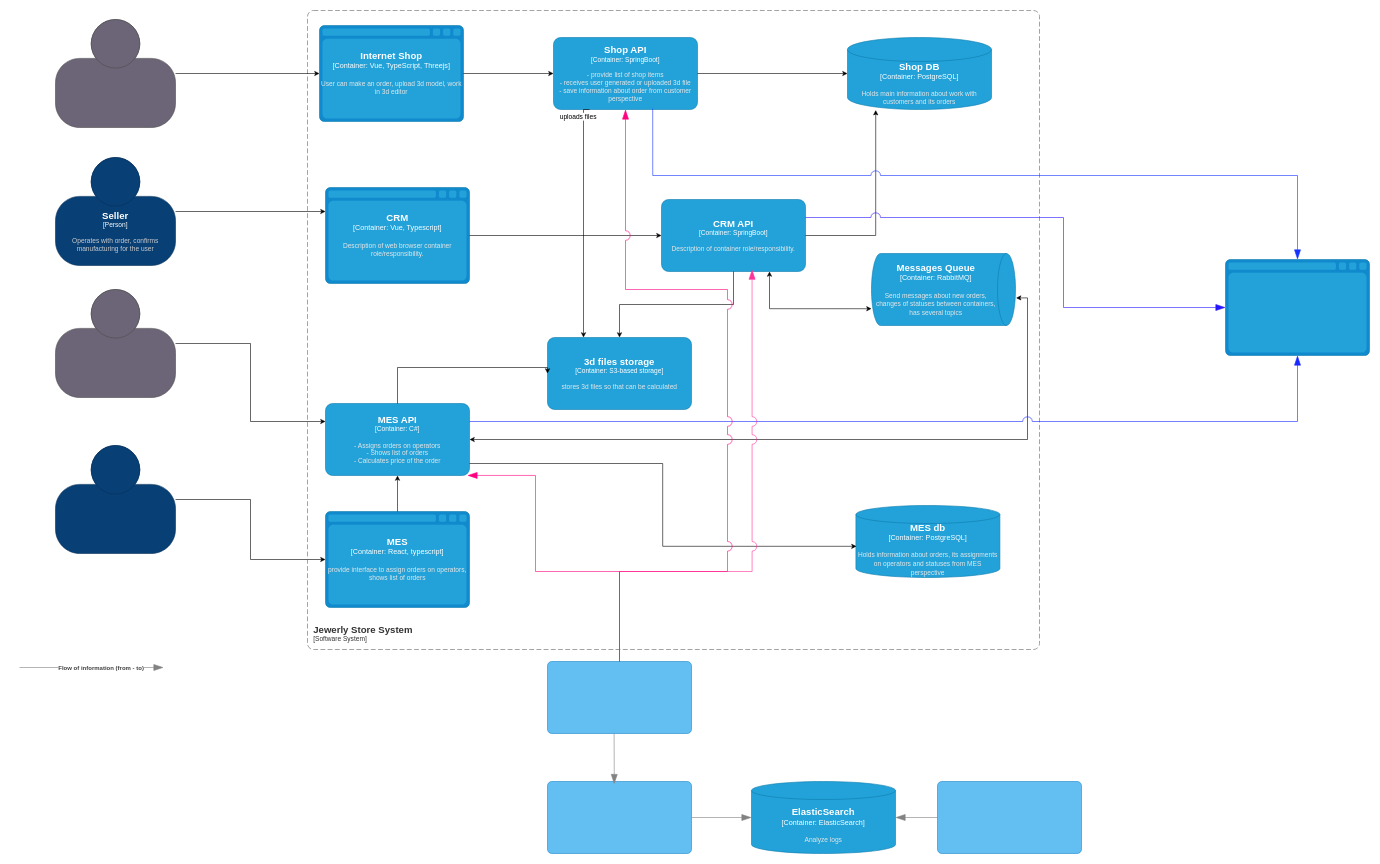
Image size: 1380x864. Some labels were removed from this diagram. The shapes that lost their labels are listed below. From the top down, each one's centre as x and y in pixels, then its label:
At pixel 115 73: "Customer [Person] Description of external person.".
At pixel 1297 307: "JAEGER [Container: ] Tracing response\request system".
At pixel 115 343: "API user [Person] Description of external person.".
At pixel 115 499: "Operator [Person] Takes order in work, manufactures jewerly".
At pixel 619 697: "Filebeat [: Filebeat] Get logs from systems".
At pixel 619 817: "Logstash [: Logstash] Get logs".
At pixel 1009 817: "Kibana [: Kibana] Visualization tool".
